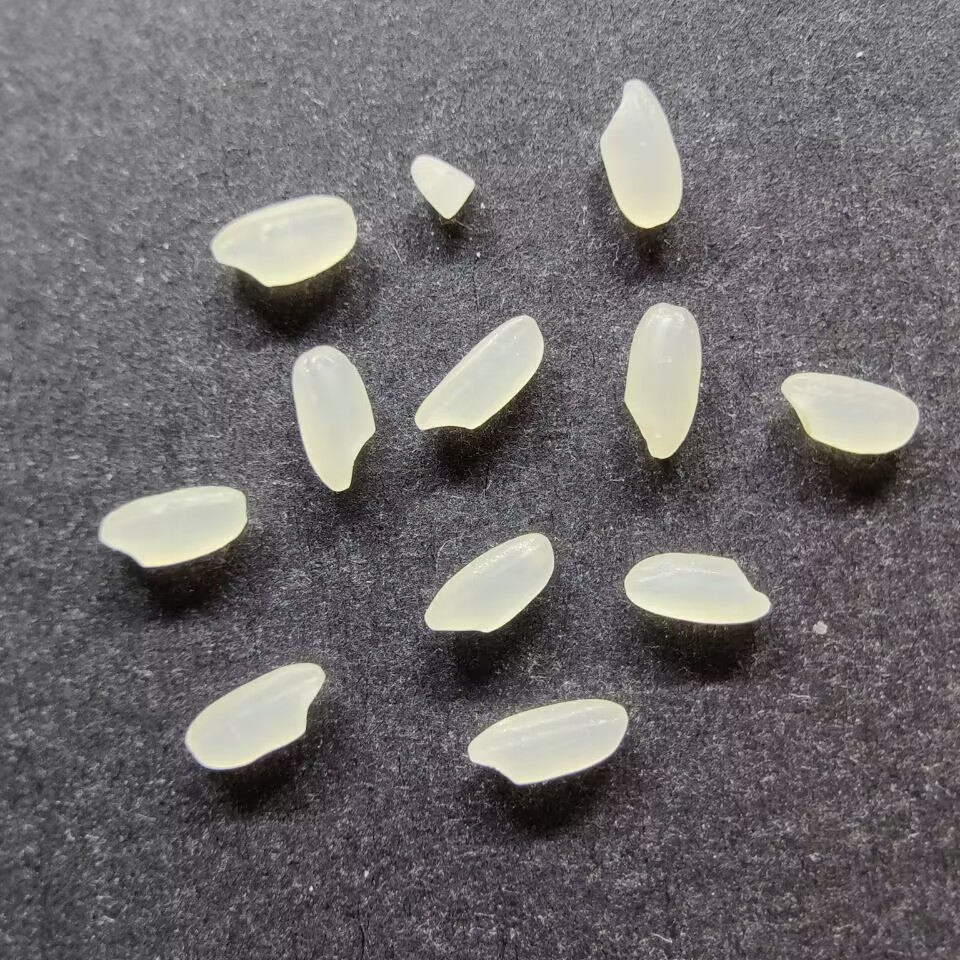broken: (408, 154, 476, 220)
rice: (414, 313, 545, 433), (183, 662, 325, 770), (466, 698, 628, 785), (210, 194, 357, 287), (422, 532, 555, 634), (598, 78, 683, 228), (622, 301, 702, 459), (291, 345, 376, 493), (97, 485, 248, 568), (780, 371, 919, 455), (623, 551, 770, 626)
